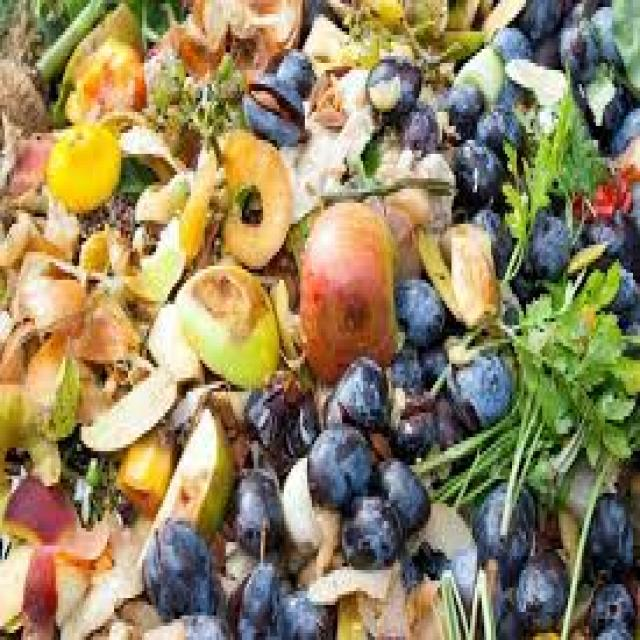food_waste: (15, 33, 618, 606), (269, 82, 618, 554), (38, 64, 248, 592), (257, 414, 597, 575)
